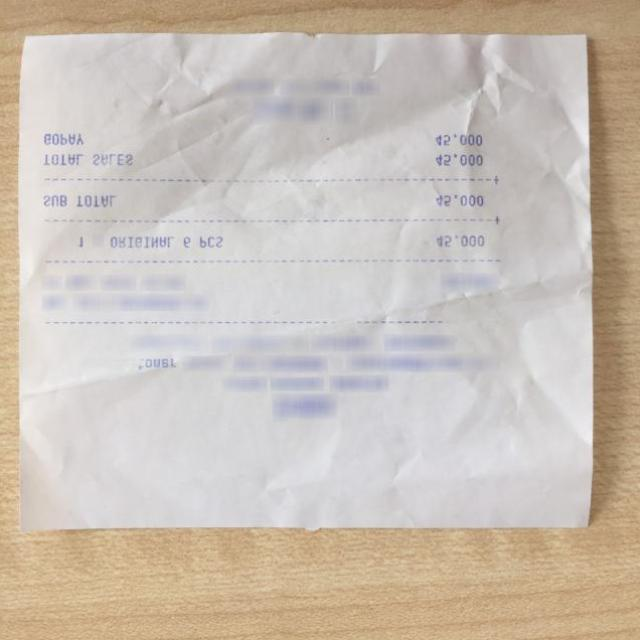kertas: (17, 30, 594, 531)
